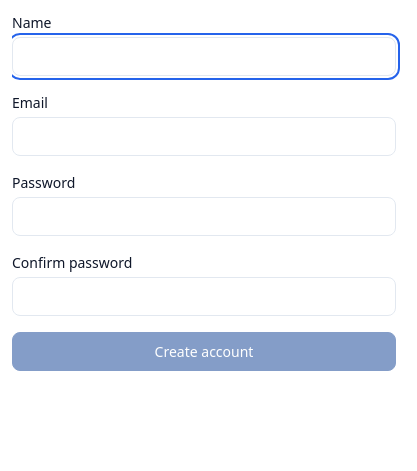
Scenario: SignupForm › shows server error on failed submit
The image size is (417, 471).
In the field labelled "Name": (204, 56) left=12, top=37, right=396, bottom=76, type "Test User"
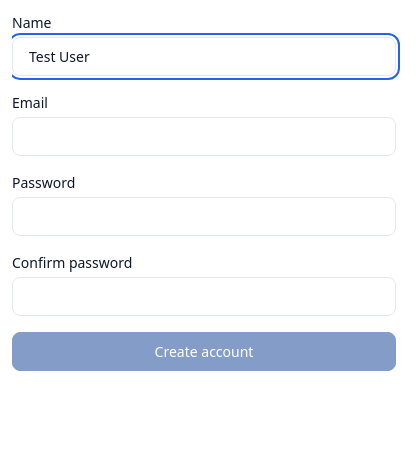
In the field labelled "Email": (204, 136) left=12, top=117, right=396, bottom=156, type "test@example.com"
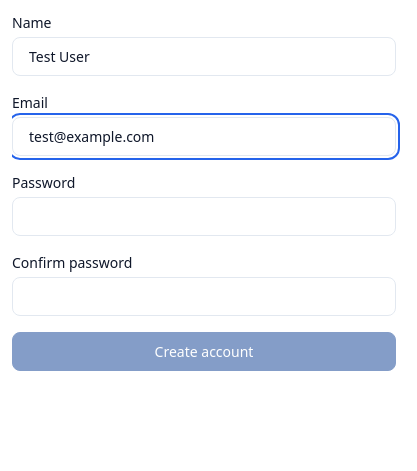
In the password field labelled "Password": (204, 216) left=12, top=197, right=396, bottom=236, type "ValidPass1"
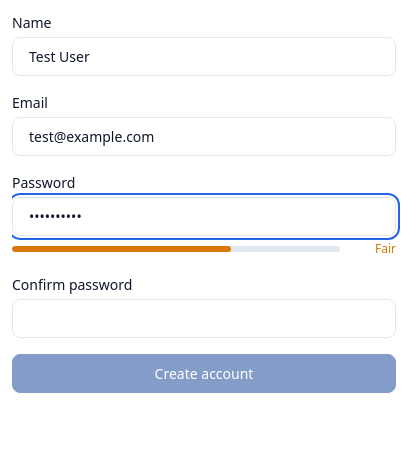
In the password field labelled "Confirm password": (204, 318) left=12, top=299, right=396, bottom=338, type "ValidPass1"
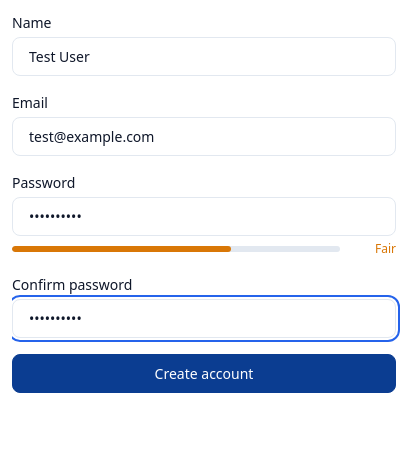
Click the button "Create account": (204, 374) left=12, top=354, right=396, bottom=393
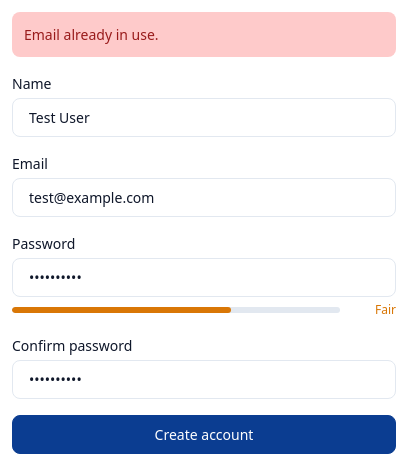
Check: the text "Email already in use." is shown, box left=12, top=12, right=396, bottom=57
